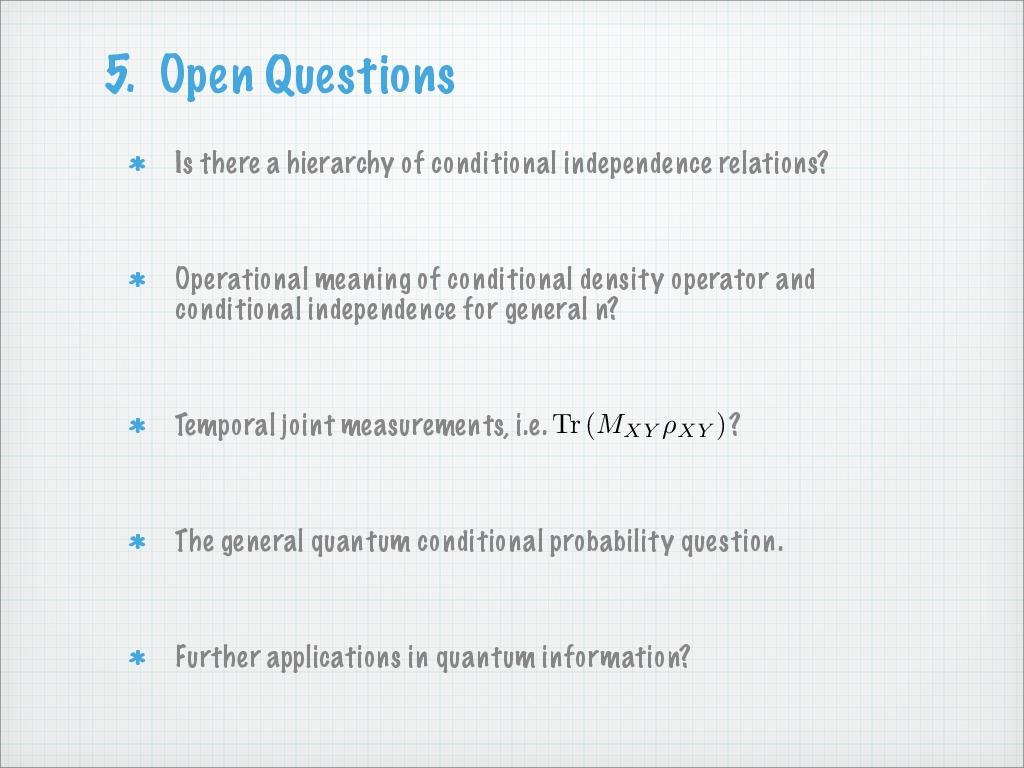paragraph: (103, 132, 935, 698)
title: (153, 39, 489, 116)
